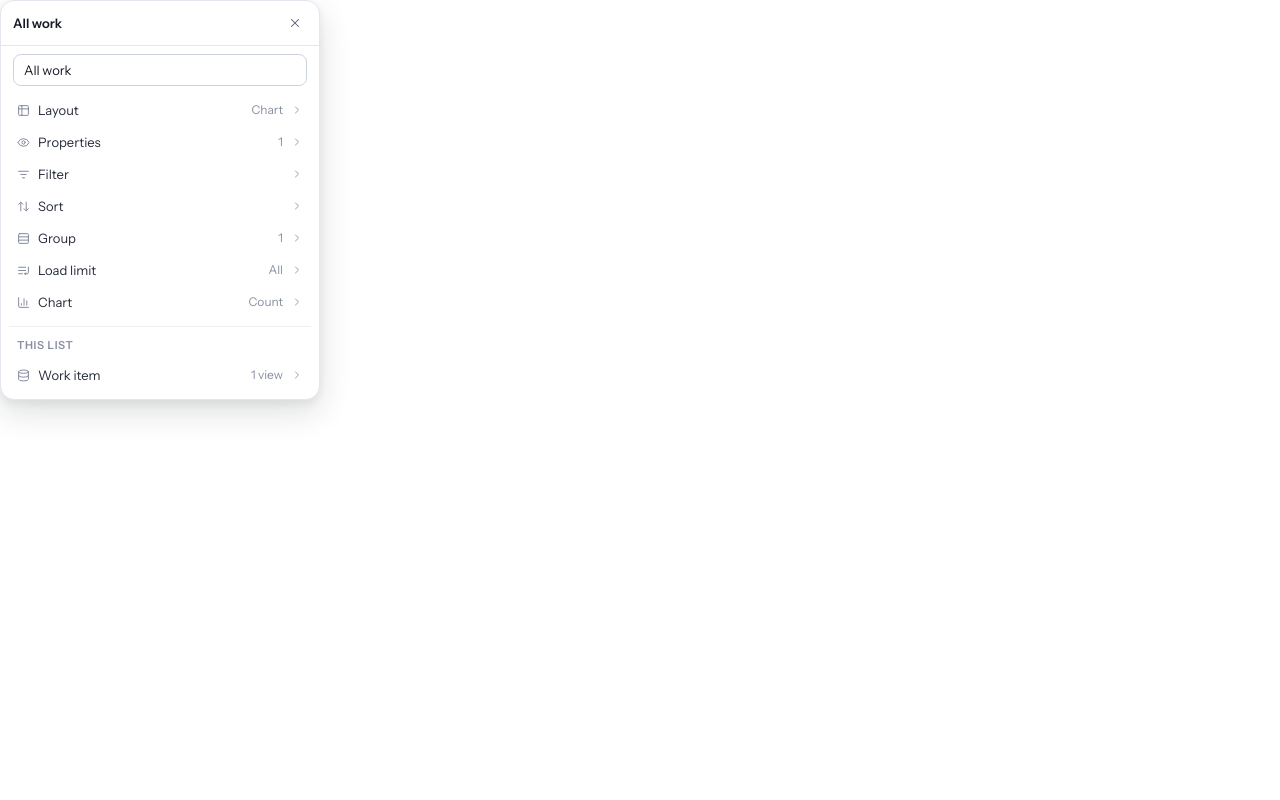
Test: chart settings (M16.29) › says slices for a donut
This screenshot has width=1280, height=800.
What coordinates should you click on to do the following:
click the button with test id "view-settings-chart"
I would click on:
 (55, 302)
Its box is [9,286,311,318].
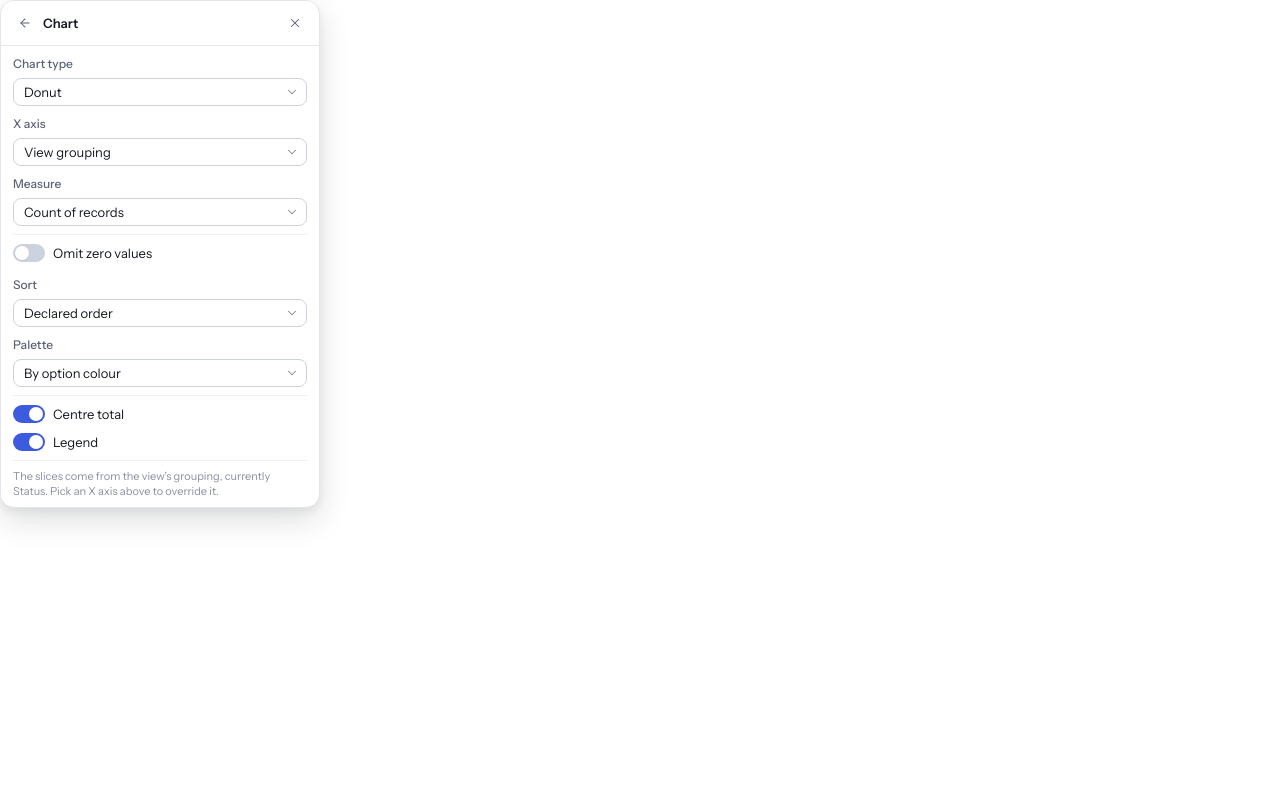
Expected: the text "The slices come from" is shown, [13,469,270,498]
